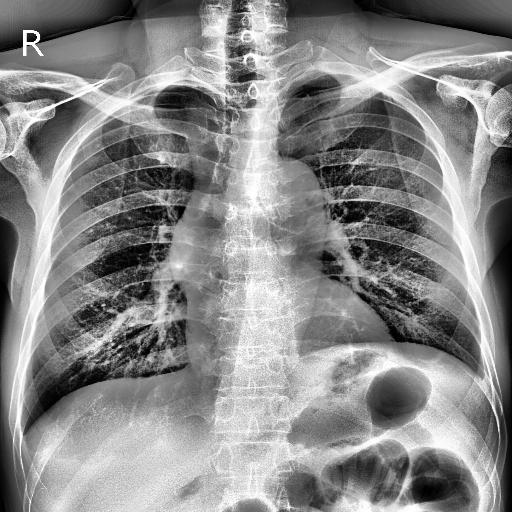0- Aortic enlargement: (240, 154, 325, 238), (249, 153, 328, 243), (270, 157, 326, 221)
7- Lung Opacity: (169, 196, 213, 284)
